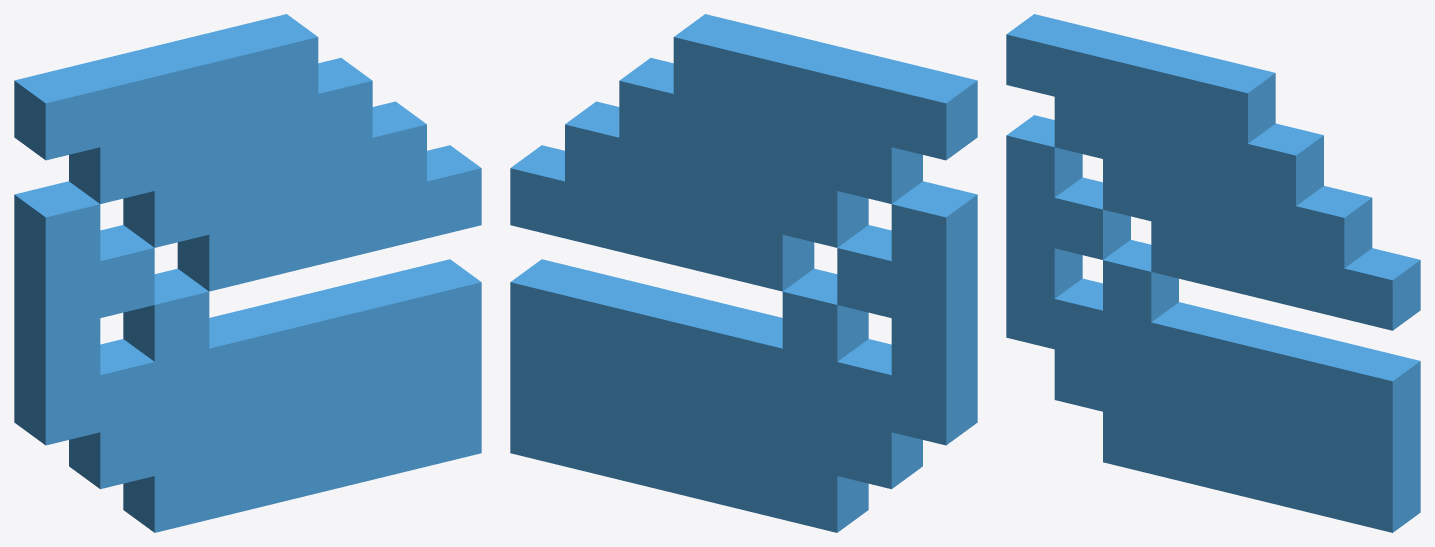
The model's file is Chest-Blue.vox.obj.
3 renders of one model, left to right at view 1: azimuth 30°, elevation 25°; view 2: azimuth 150°, elevation 25°; view 3: azimuth 330°, elevation 25°, orthographic. The views are drawn at different scales.
Size of the model in its own units: 0.8 by 0.8 by 0.1.
Materials: 1 (1 with a texture image).
